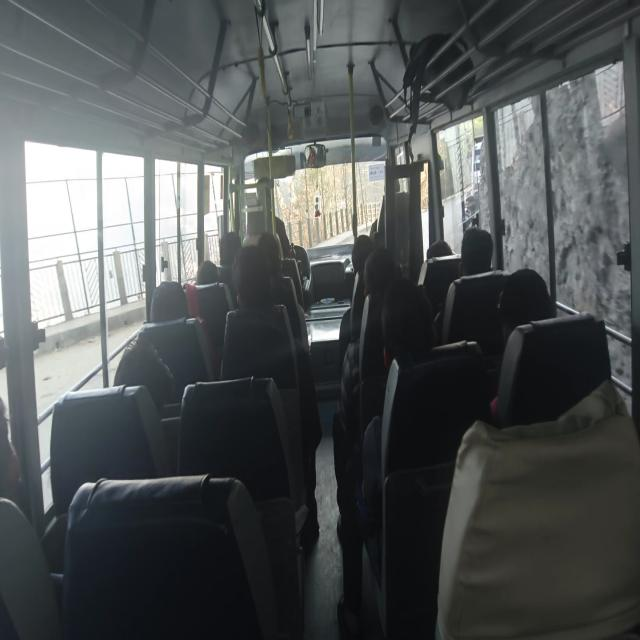person: (435, 378, 639, 638), (336, 277, 436, 635), (219, 243, 322, 544), (360, 278, 436, 508), (340, 246, 402, 429), (488, 267, 556, 418), (436, 226, 494, 342), (338, 233, 374, 369), (497, 267, 556, 348), (113, 336, 174, 411), (0, 396, 24, 504), (458, 227, 493, 277), (218, 230, 242, 266), (196, 259, 218, 285), (426, 239, 454, 258)
